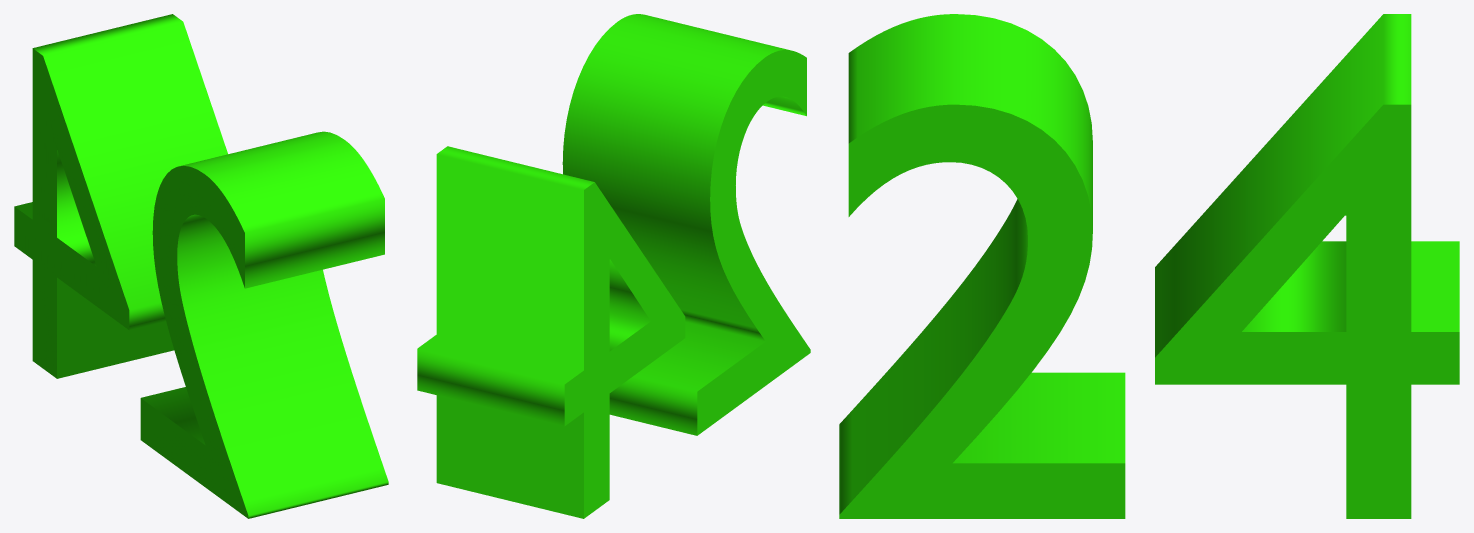
Rendered from number24.obj.
3 views of the same model, side by side, from view 1: azimuth 30°, elevation 25°; view 2: azimuth 150°, elevation 25°; view 3: azimuth 270°, elevation 25° (orthographic). The views are drawn at different scales.
Parts seen in each view (by area): view 1: Text.023_Text.030; view 2: Text.023_Text.030; view 3: Text.023_Text.030.
Boxes of the visible parts, <box> form: Text.023_Text.030: <box>14,14,388,518</box>; Text.023_Text.030: <box>417,14,810,518</box>; Text.023_Text.030: <box>839,14,1459,518</box>.
Size of the model in its own units: 2.23 by 4.76 by 6.46.
